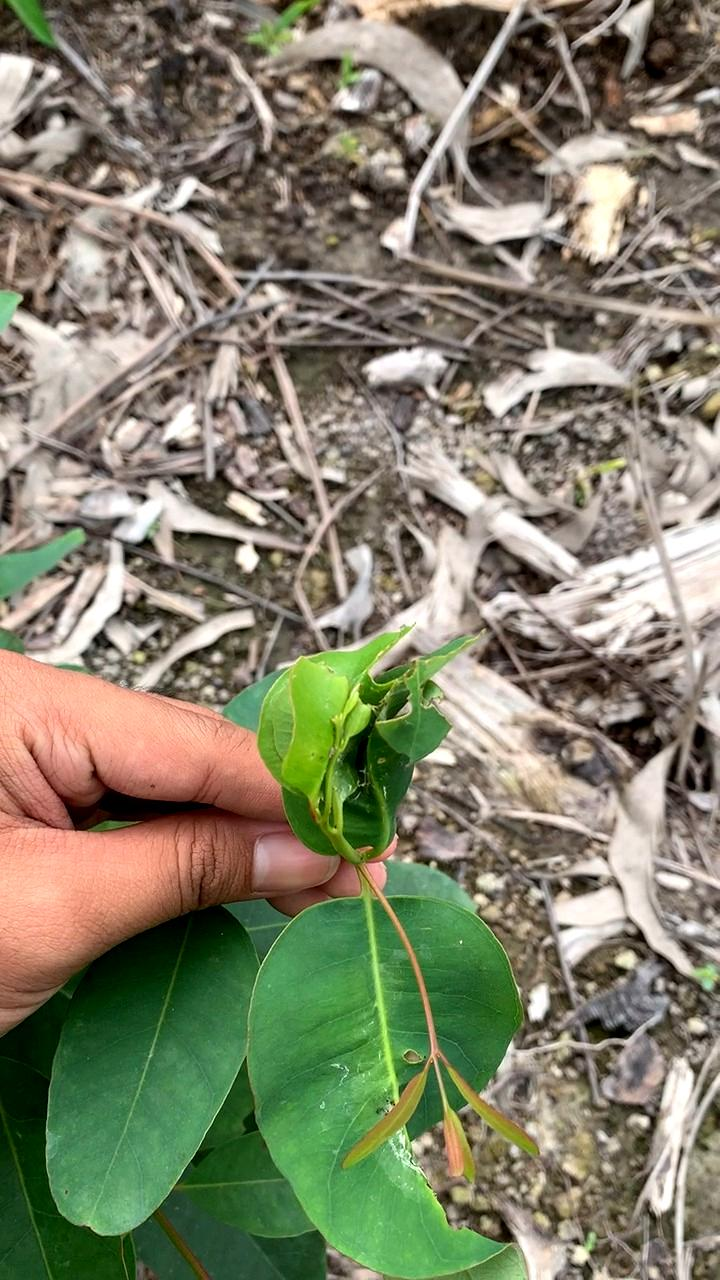Leaf Roller - Leaf: (256, 628, 449, 885)
